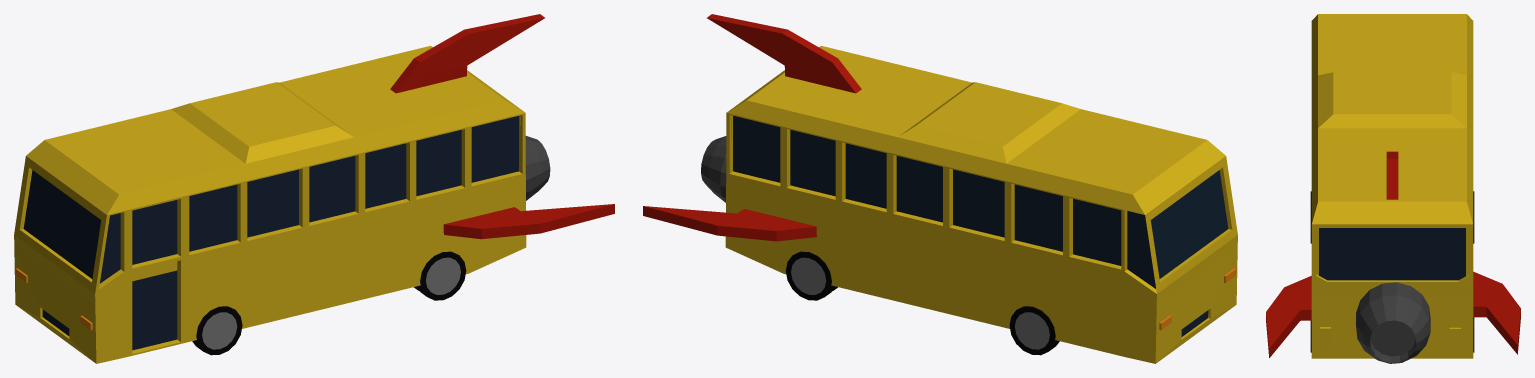
File: bus.fbx
The picture shows the model from 3 angles, left to right: view 1: azimuth 30°, elevation 25°; view 2: azimuth 150°, elevation 25°; view 3: azimuth 270°, elevation 25°; orthographic projection.
Visible parts, largest first — view 1: Cube, Cube.002, Cylinder, Cube.004, Cylinder.001; view 2: Cube, Cube.002, Cube.003, Cylinder, Cylinder.001; view 3: Cube, Cylinder.001, Cube.003, Cube.004, Cube.002, Cylinder.
Part boxes in pixels (box(x1,y1,x2,y2)): Cube: box(14, 46, 526, 363); Cube.002: box(390, 14, 544, 93); Cylinder: box(192, 251, 466, 355); Cube.004: box(443, 204, 614, 239); Cylinder.001: box(525, 136, 550, 200); Cube: box(725, 46, 1237, 363); Cube.002: box(707, 14, 861, 93); Cube.003: box(643, 206, 816, 241); Cylinder: box(785, 251, 1059, 355); Cylinder.001: box(701, 136, 726, 202); Cube: box(1311, 14, 1473, 358); Cylinder.001: box(1356, 282, 1430, 363); Cube.003: box(1473, 271, 1520, 354); Cube.004: box(1266, 276, 1311, 357); Cube.002: box(1386, 151, 1398, 199); Cylinder: box(1310, 191, 1474, 352).
Bounding box in the file's own units: 712 × 303 × 316.
